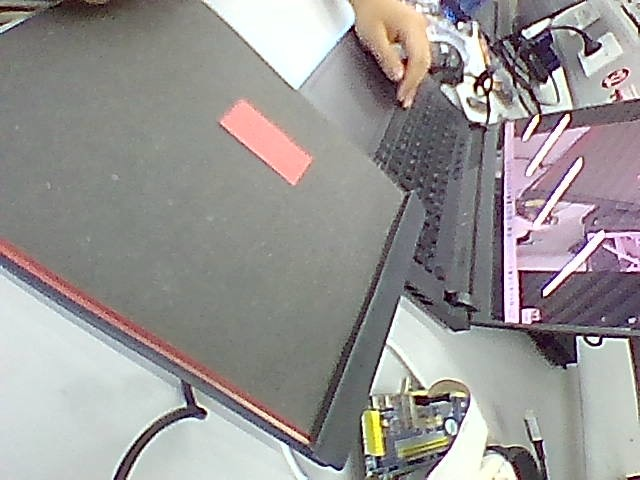card: (220, 99, 312, 185)
